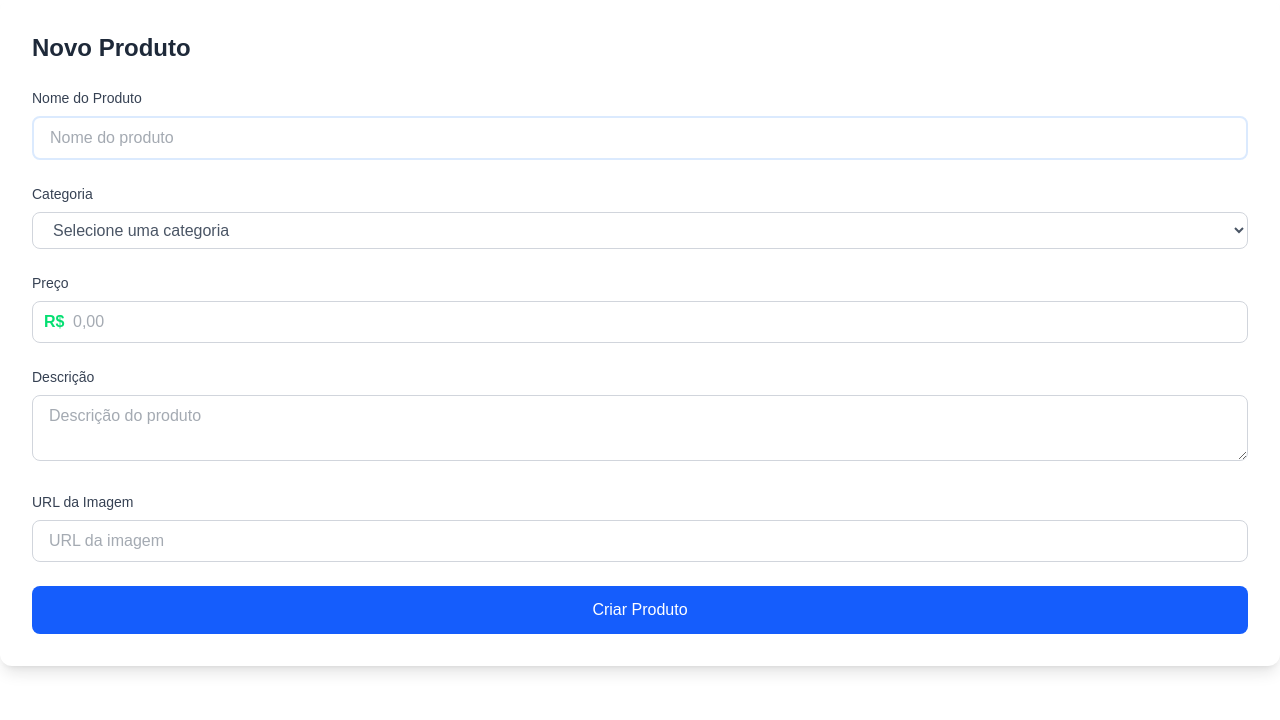
it: FormularioProduto Component › should display error message when required fields are empty
Click the button "Criar Produto" at (640, 610), box [32,586,1248,634]
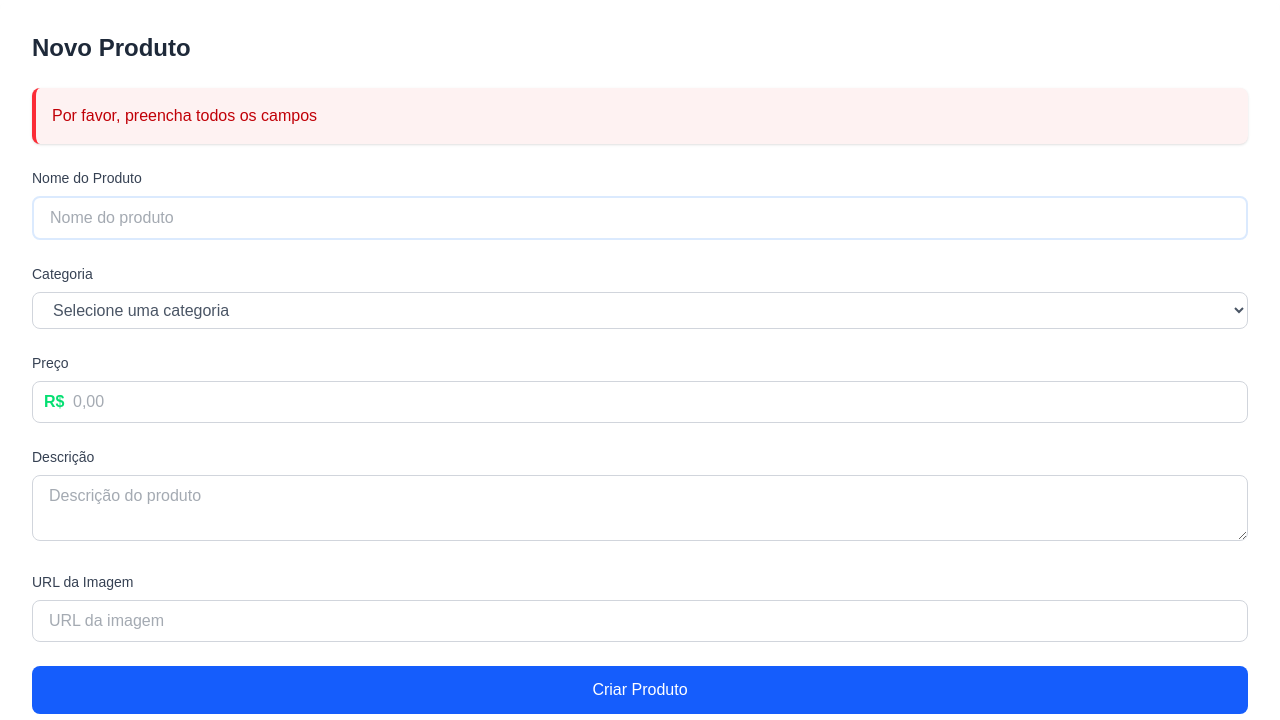
Expected: the text "Por favor, preencha todos os campos" is shown, [52,107,317,124]
